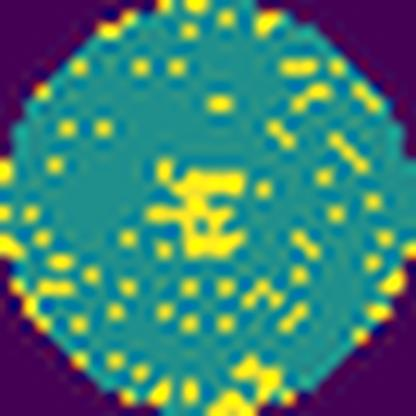Center: (142, 155, 250, 262)
